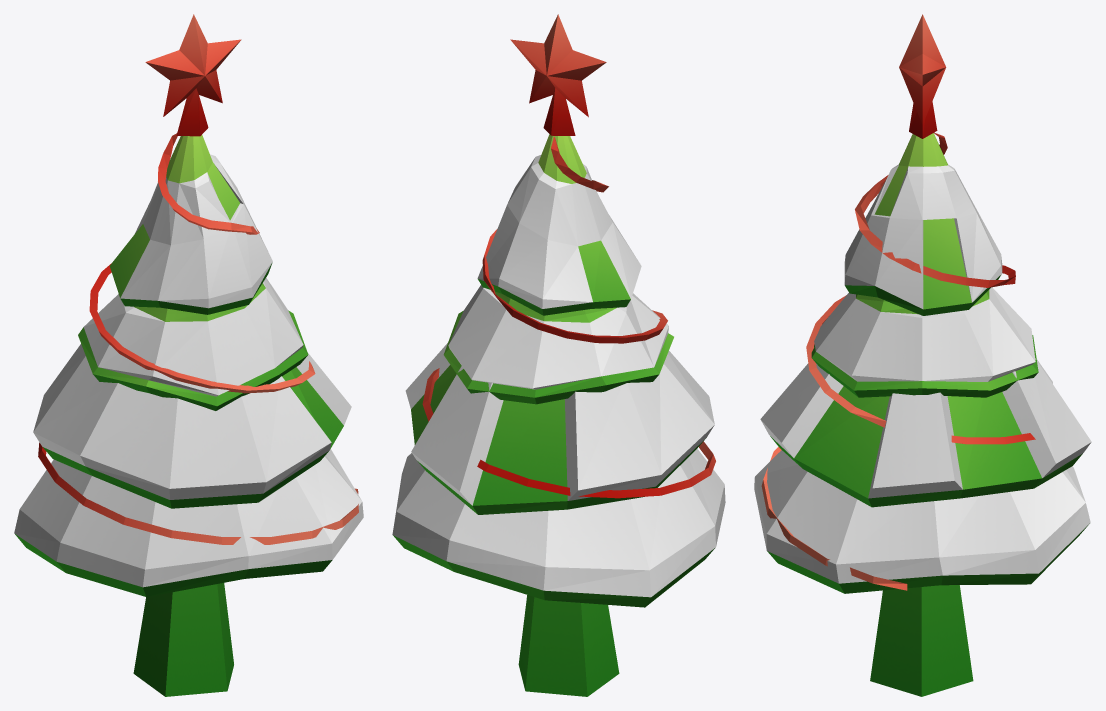
File: VEG0210045.fbx
3 renders of one model, left to right at view 1: azimuth 30°, elevation 25°; view 2: azimuth 150°, elevation 25°; view 3: azimuth 270°, elevation 25°, orthographic.
Visible parts, largest first — view 1: smVEG0210045; view 2: smVEG0210045; view 3: smVEG0210045.
Boxes of the visible parts, box(x1,y1,x2,y2) form: smVEG0210045: box(14, 14, 363, 696); smVEG0210045: box(392, 14, 725, 696); smVEG0210045: box(754, 14, 1091, 696).
Bounding box in the file's own units: 208 × 446 × 206.
1 material, 1 textured.
